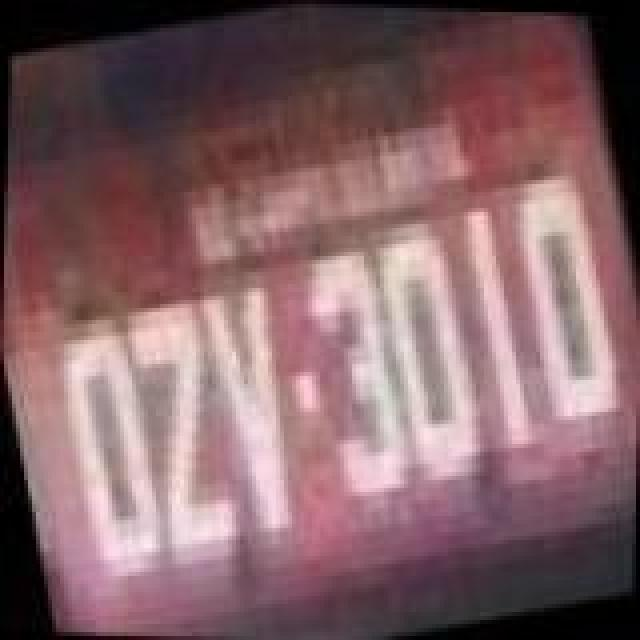1: (446, 194, 546, 462)
3: (278, 232, 430, 512)
O: (496, 152, 640, 436), (38, 304, 178, 592), (362, 222, 498, 494)
V: (186, 268, 318, 548)
Z: (114, 290, 254, 570)
